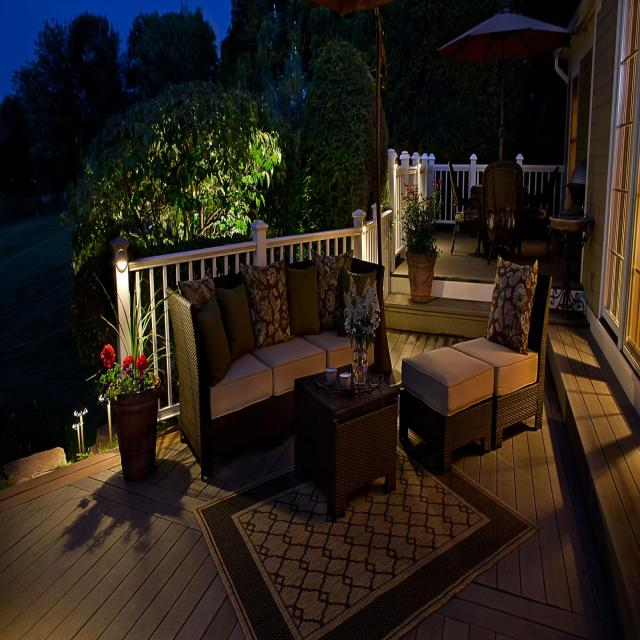Table: (294, 358, 411, 510), (541, 171, 600, 320)
chair: (167, 269, 403, 445), (401, 306, 555, 461)
